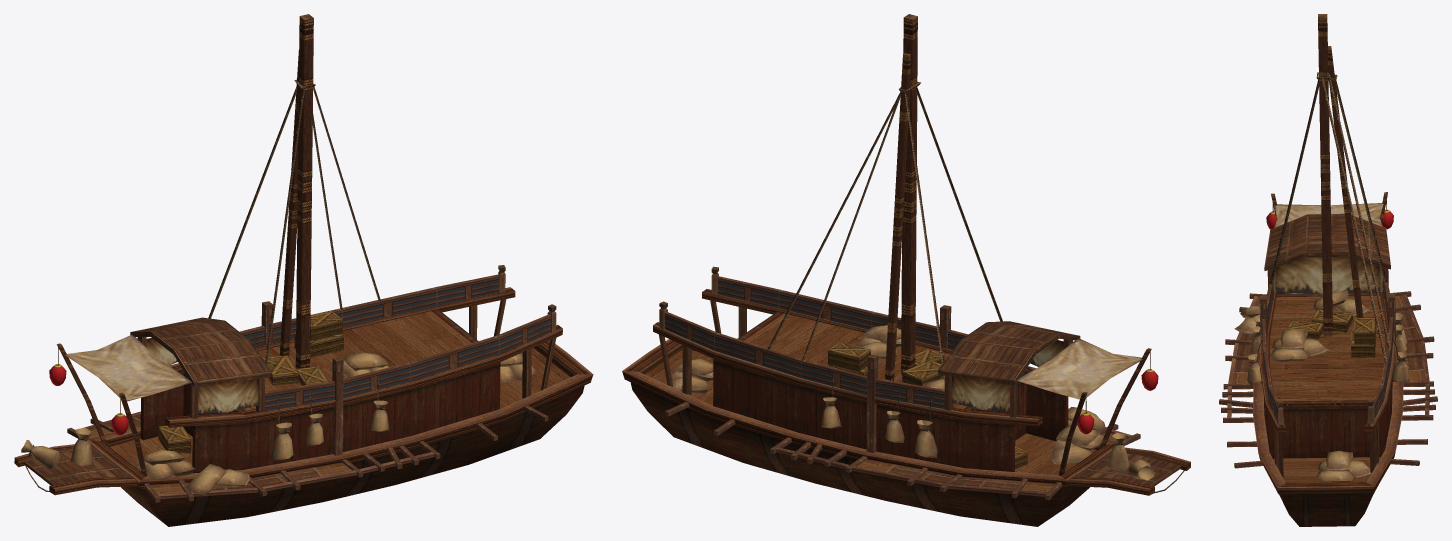
File: ss_chuang_1.FBX
The picture shows the model from 3 angles, left to right: view 1: azimuth 30°, elevation 25°; view 2: azimuth 150°, elevation 25°; view 3: azimuth 270°, elevation 25°; orthographic projection. The views are drawn at different scales.
Visible parts, largest first — view 1: ss_chuang_1; view 2: ss_chuang_1; view 3: ss_chuang_1.
Part boxes in pixels (x1,y1,x2,y2): ss_chuang_1: (14,14,593,526); ss_chuang_1: (622,14,1190,526); ss_chuang_1: (1219,14,1437,526).
Bounding box in the file's own units: 1780 × 713 × 1515.
